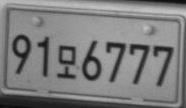1: (35, 35, 54, 77)
6: (81, 39, 102, 81)
7: (105, 41, 127, 83), (128, 42, 150, 84), (152, 44, 174, 86)
9: (11, 33, 31, 75)
모: (57, 44, 76, 79)
